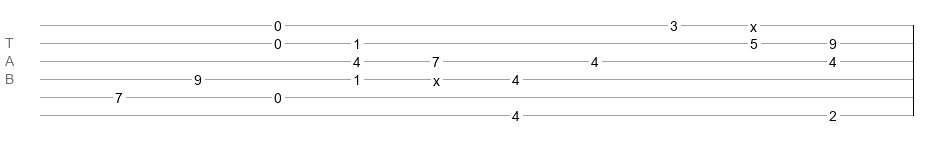0: (274, 18, 282, 28), (274, 90, 282, 100), (274, 36, 282, 46)
1: (353, 36, 361, 46), (353, 72, 361, 82)
2: (829, 108, 837, 118)
3: (670, 18, 678, 28)
4: (353, 54, 361, 64), (512, 108, 520, 118), (512, 72, 520, 82), (591, 54, 599, 64), (829, 54, 837, 64)
5: (750, 36, 758, 46)
7: (115, 90, 123, 100), (432, 54, 440, 64)
9: (194, 72, 202, 82), (829, 36, 837, 46)
x: (433, 73, 440, 81), (750, 19, 757, 27)
